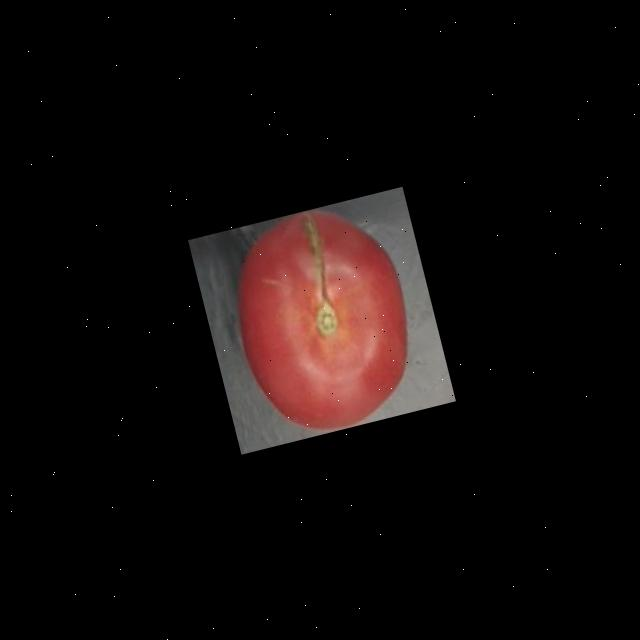tomato: (212, 192, 434, 448)
